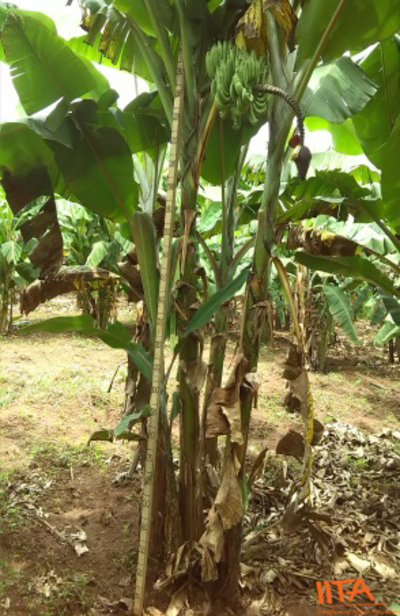bananaHand: (204, 38, 269, 131)
